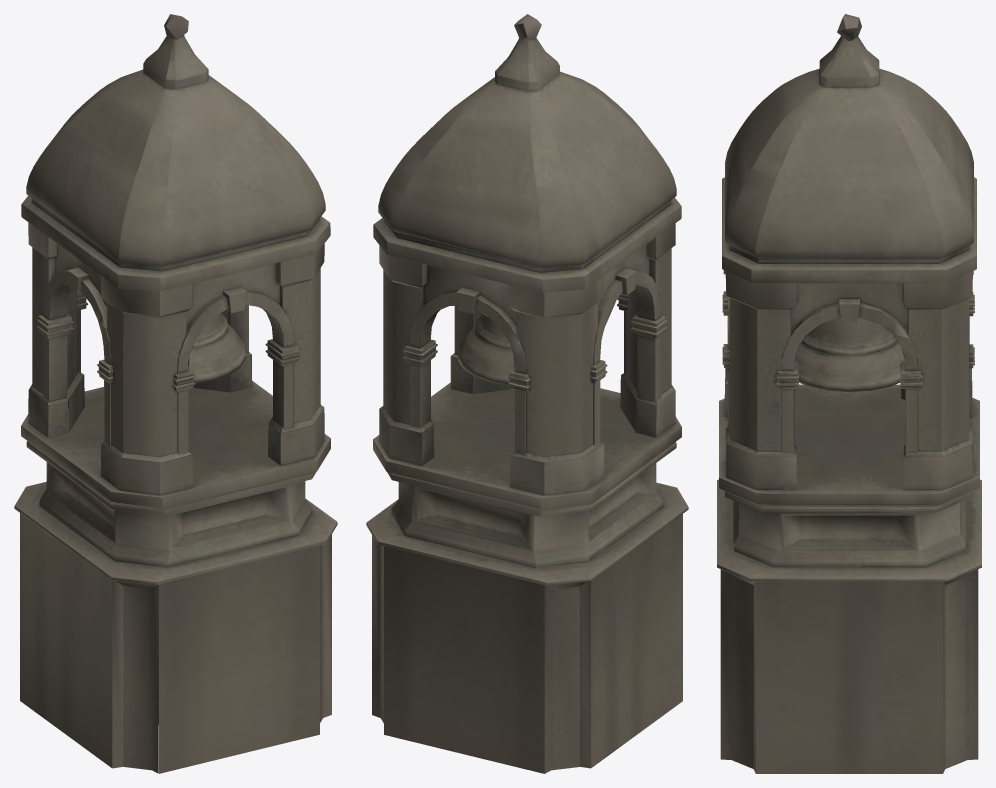
File: a20_bell_tower.glb
3 renders of one model, left to right at view 1: azimuth 30°, elevation 25°; view 2: azimuth 150°, elevation 25°; view 3: azimuth 270°, elevation 25°, orthographic.
Parts seen in each view (by area): view 1: body; view 2: body; view 3: body.
Boxes of the visible parts, left/top/right/bottom form: body: left=14, top=14, right=337, bottom=773; body: left=366, top=14, right=688, bottom=773; body: left=717, top=14, right=981, bottom=773.
Bounding box in the file's own units: 1 × 2.93 × 0.9992.
Materials: 1 (1 with a texture image).
